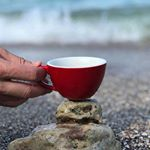cups: (33, 56, 109, 101)
